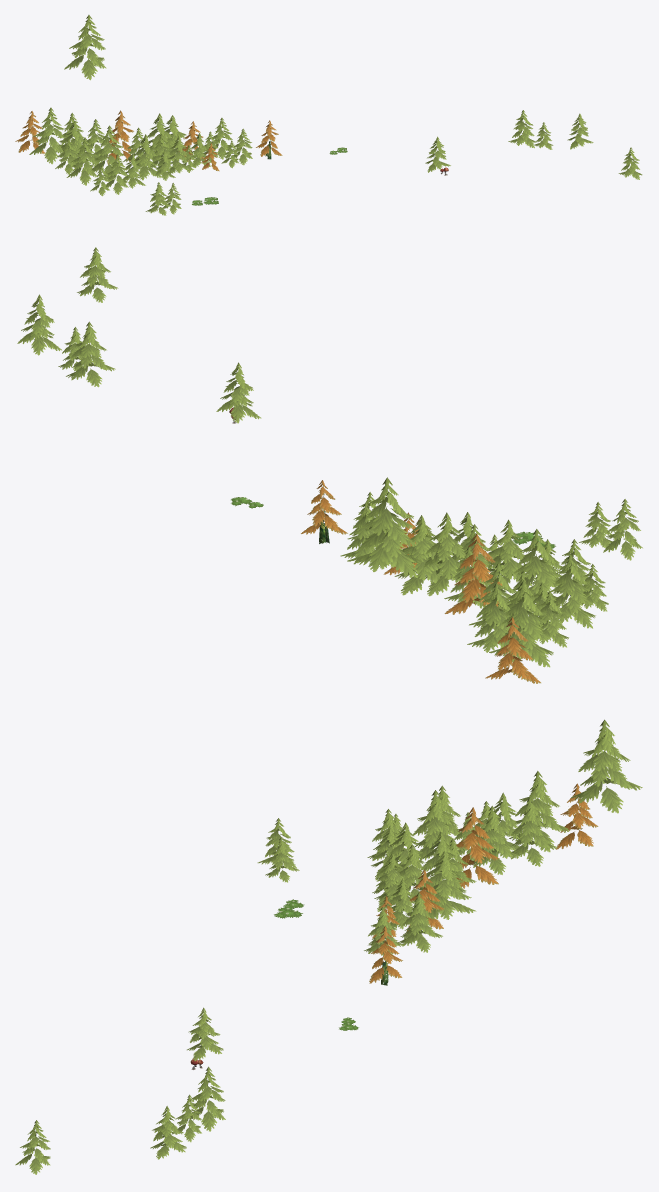
Rendered from zhibei9_1.fbx.
3 renders of one model, top to bottom at view 1: azimuth 30°, elevation 25°; view 2: azimuth 150°, elevation 25°; view 3: azimuth 270°, elevation 25°, orthographic. The views are drawn at different scales.
Parts seen in each view (by area): view 1: zhibei9_1; view 2: zhibei9_1; view 3: zhibei9_1.
Boxes of the visible parts, x1,y1,x2,y2 form: zhibei9_1: (15, 15, 642, 215); zhibei9_1: (17, 247, 642, 683); zhibei9_1: (15, 719, 642, 1174).
Size of the model in its own units: 7039 by 1764 by 5519.
